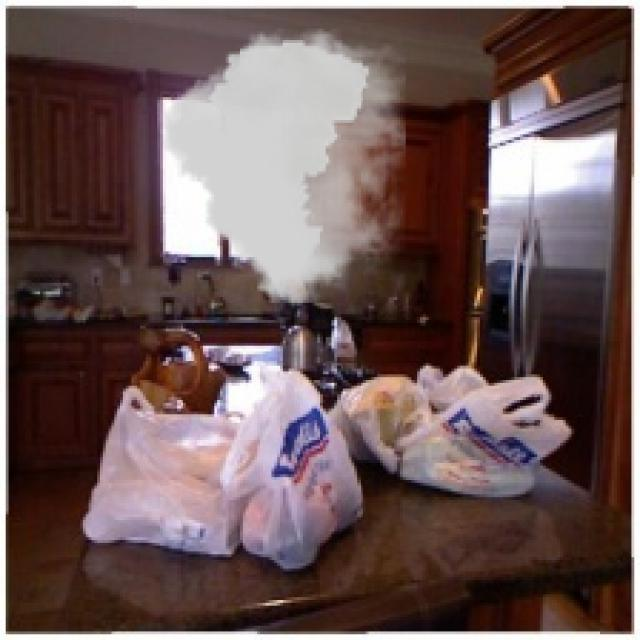Smoke: (163, 28, 406, 303)
